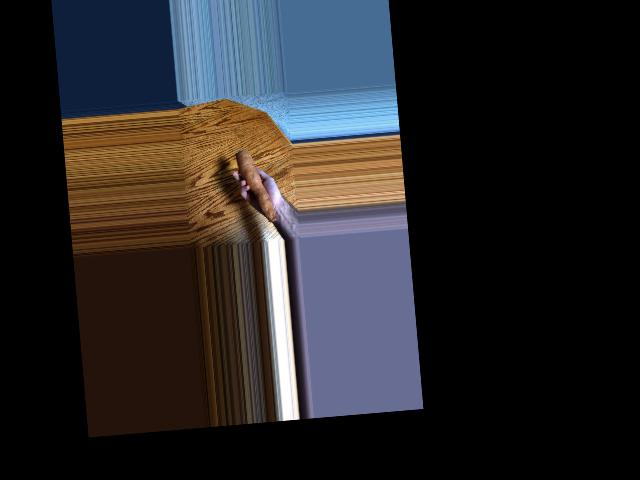sweet_potato: (233, 147, 278, 227)
